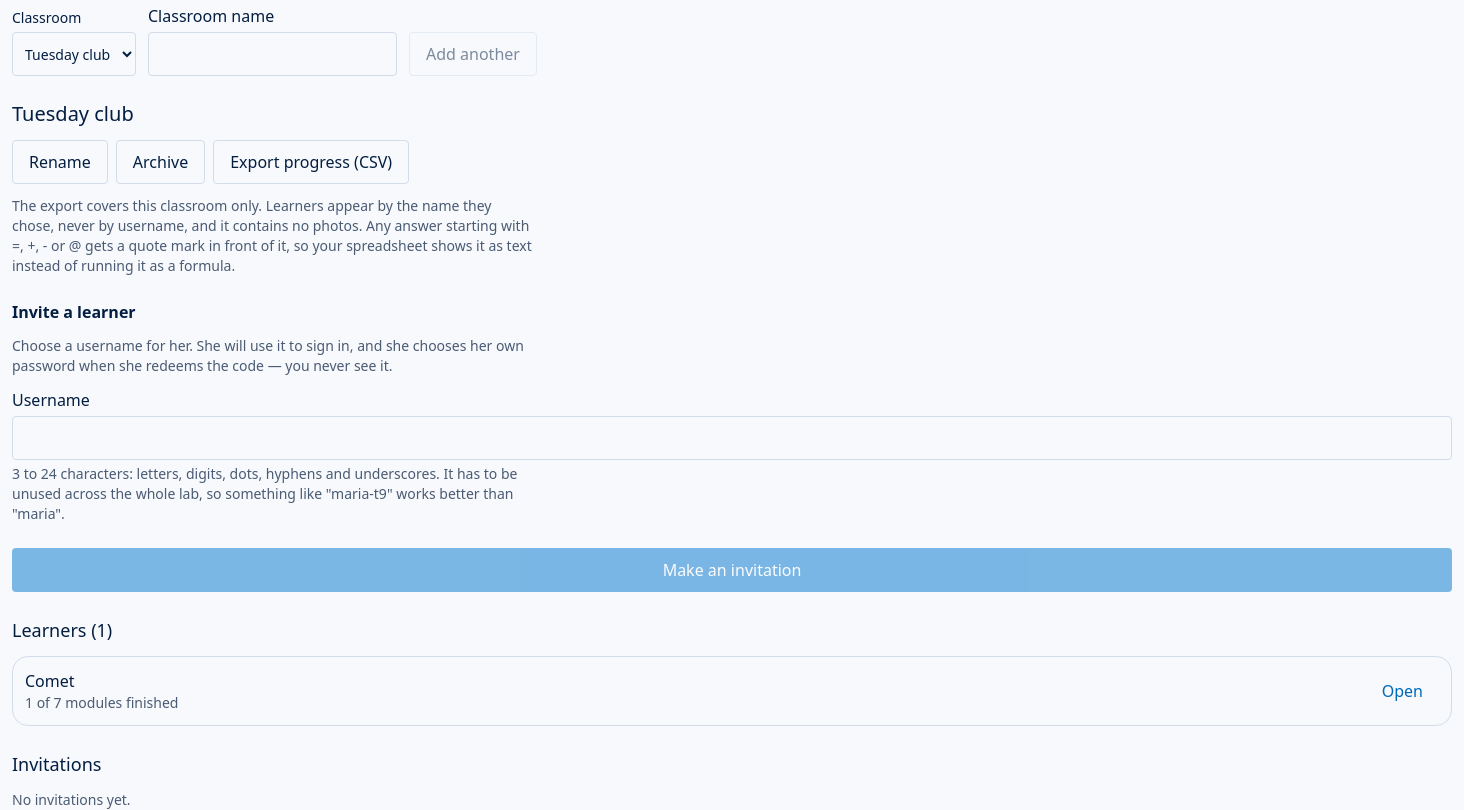
Test case: the roster shows aliases, never usernames (FR-025, FR-040) › shows module completion and the accuracy figures FR-040 requires
The image size is (1464, 810).
(page scrolled)
Expected: the text "1 of 7 modules finished" is shown, left=25, top=693, right=178, bottom=713
Click the button "Open".
click(1402, 691)  # box left=1366, top=669, right=1439, bottom=713
(page scrolled)
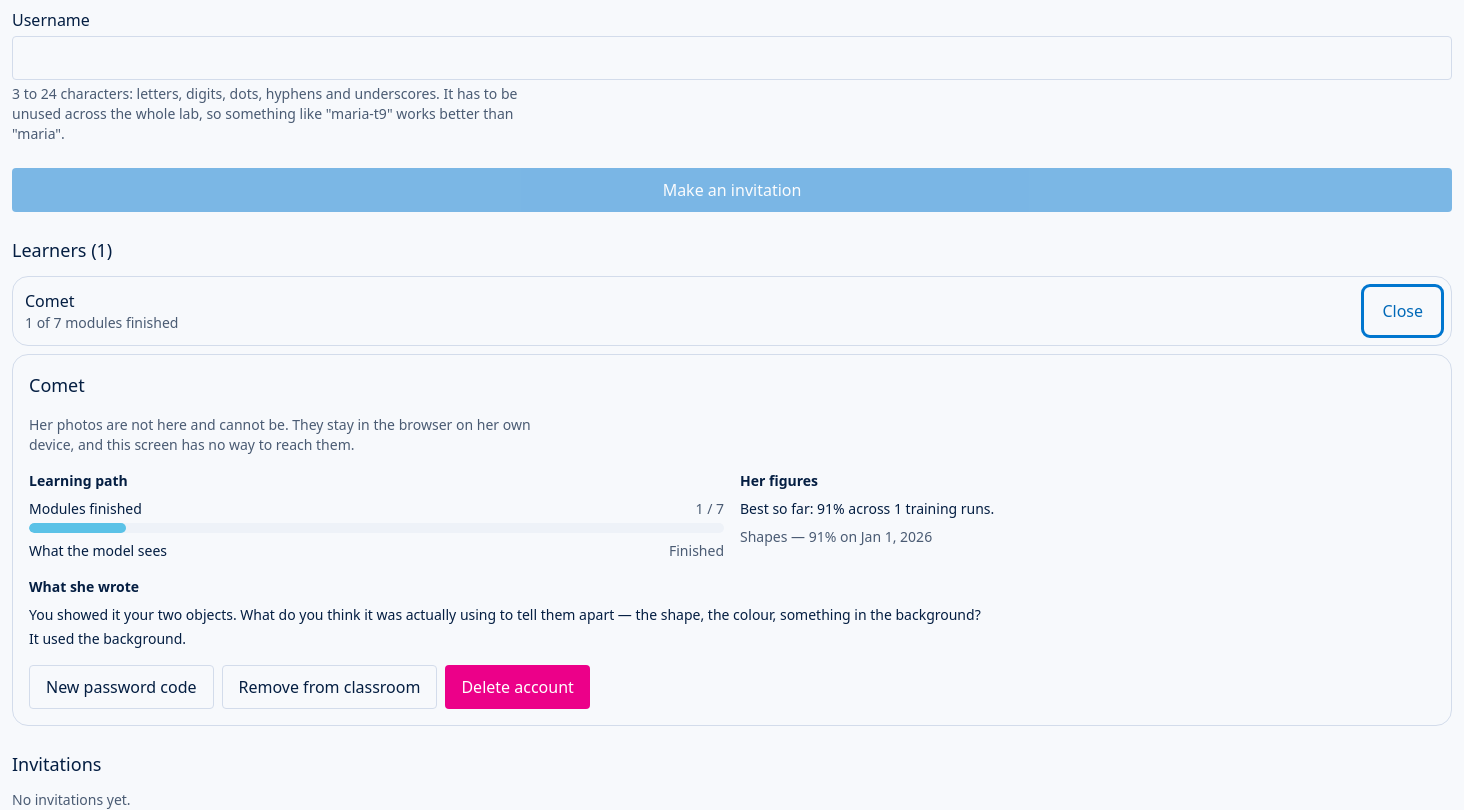
Now the element with test id "learner-detail-learner-1" shows "best so far: 91%", box left=740, top=499, right=994, bottom=518
Now the element with test id "learner-detail-learner-1" shows "It used the background.", box left=29, top=629, right=186, bottom=648
Now the text "What do you think it was actually using" is shown, box left=29, top=605, right=981, bottom=624
